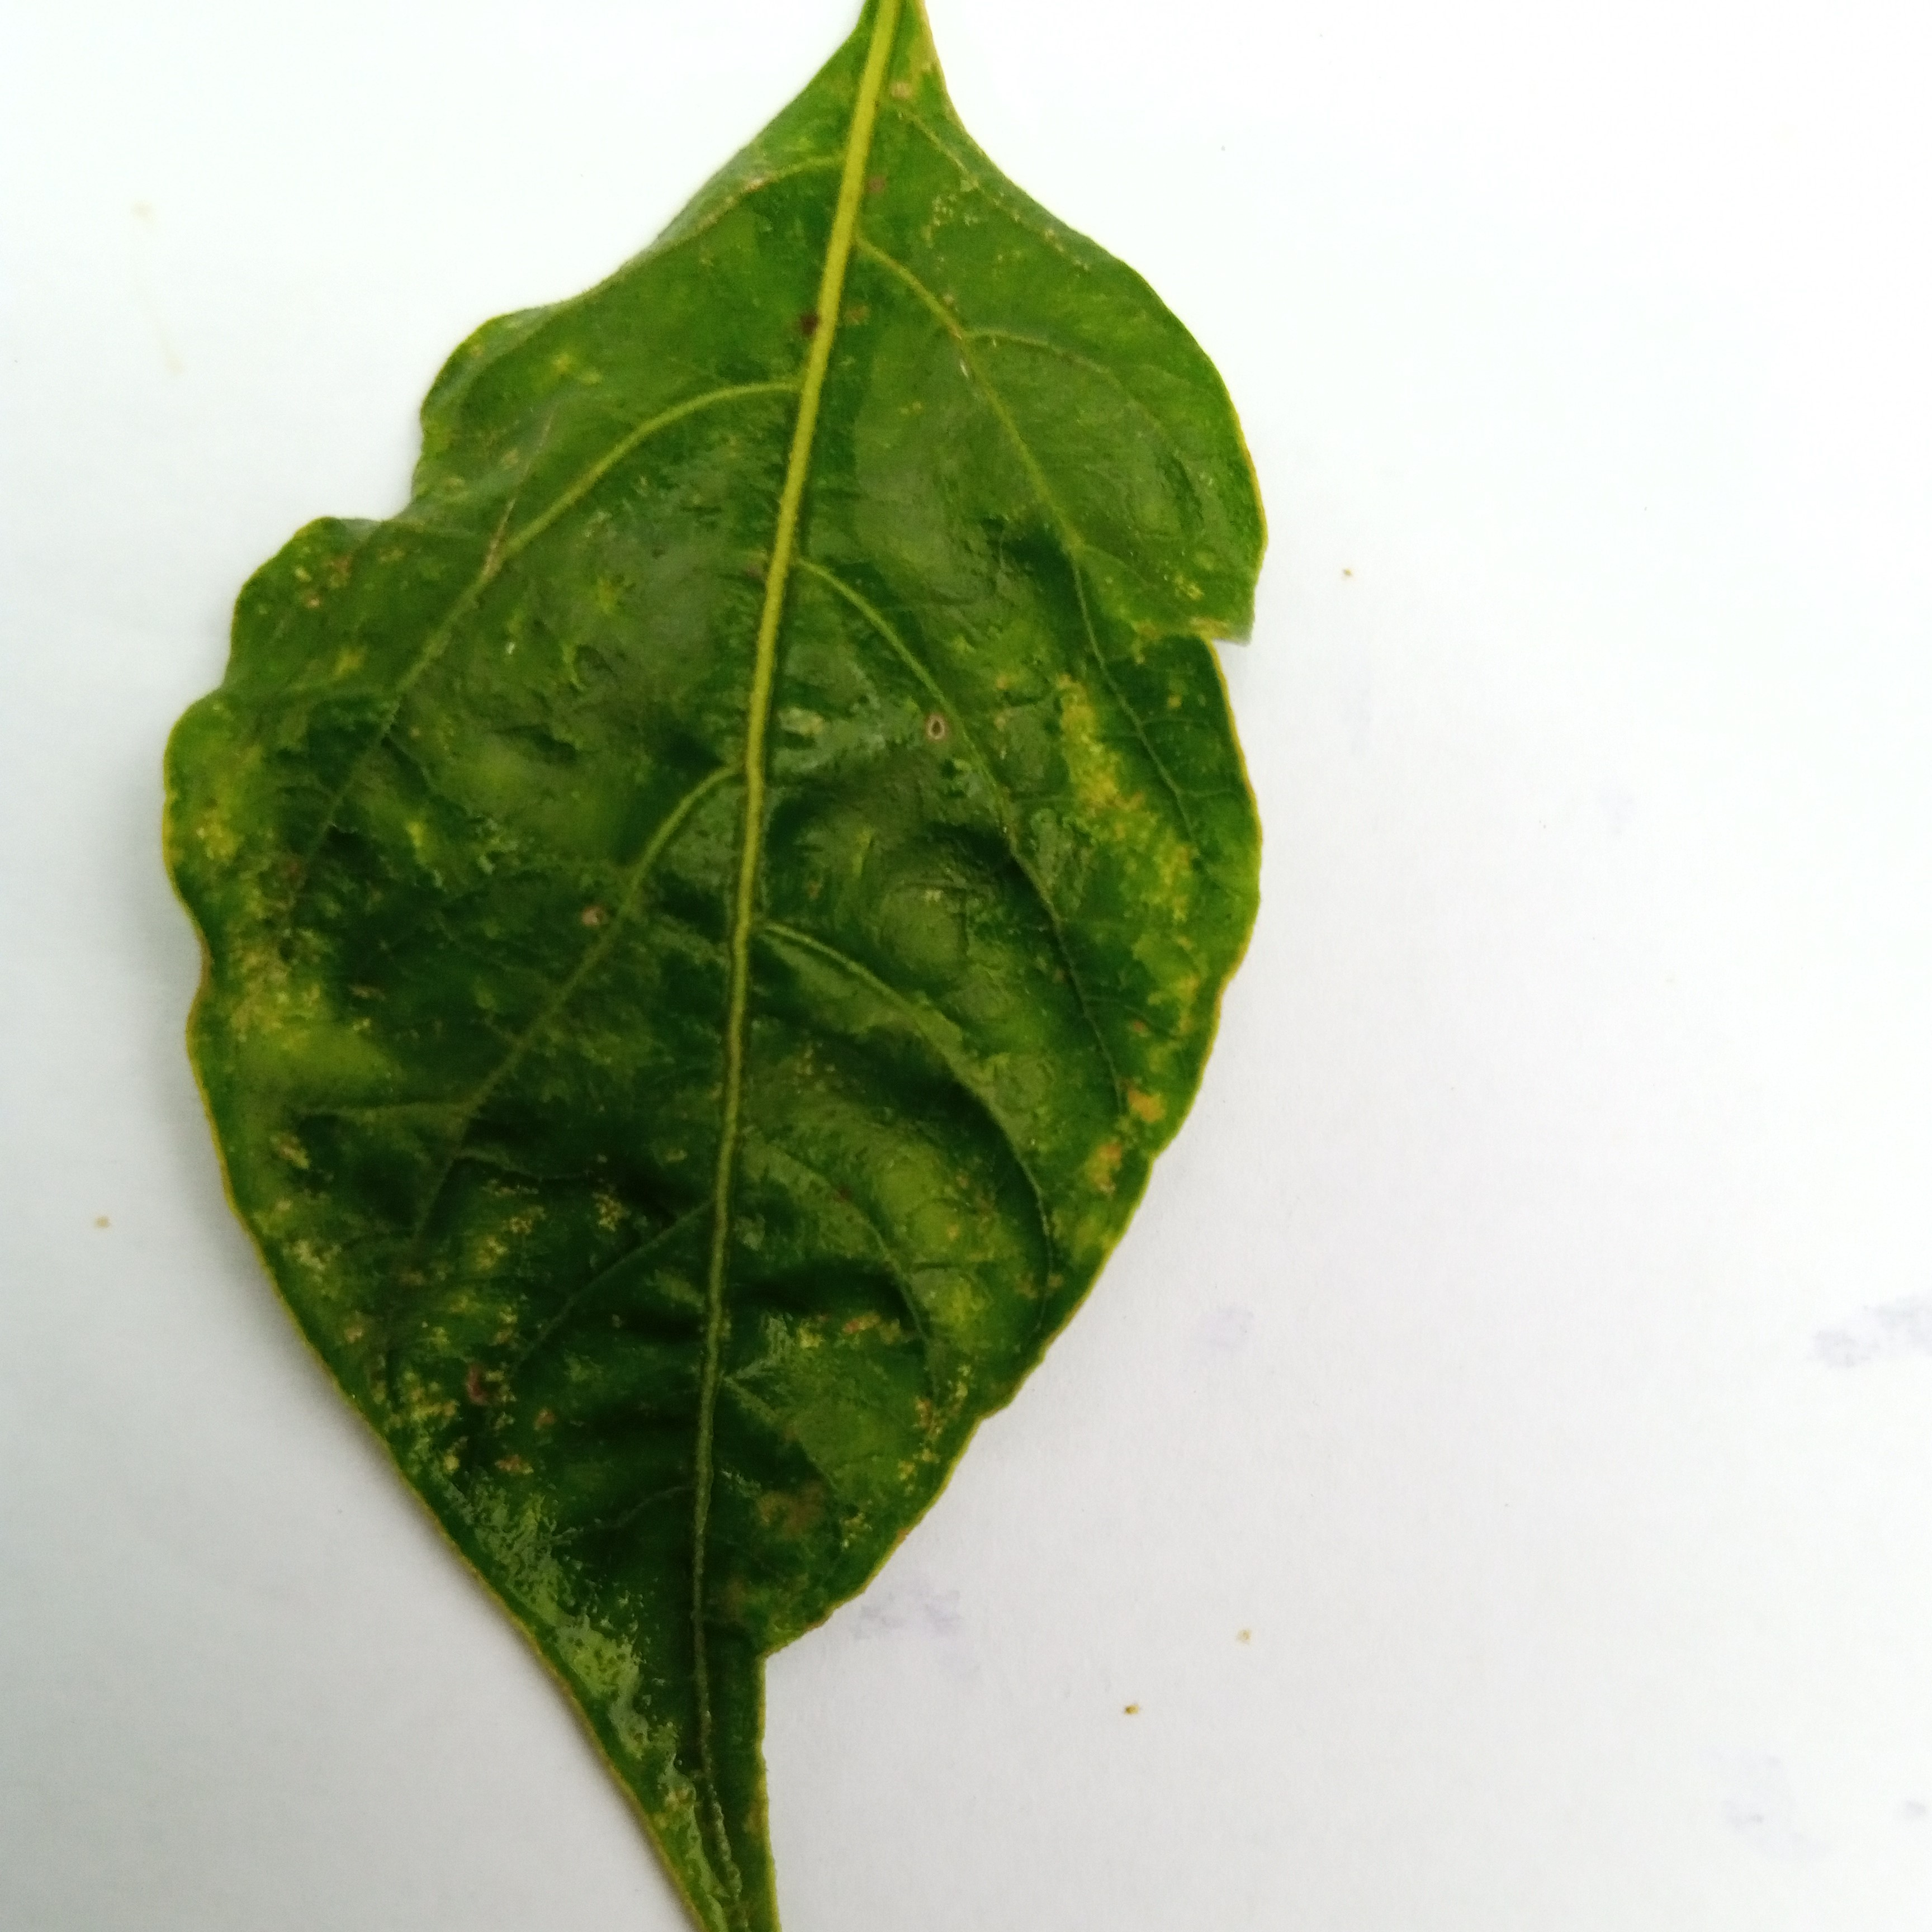Leaf: (83, 57, 1330, 1932)
